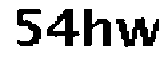4: (46, 7, 81, 50)
5: (13, 4, 44, 48)
h: (82, 4, 112, 50)
w: (115, 13, 160, 52)
